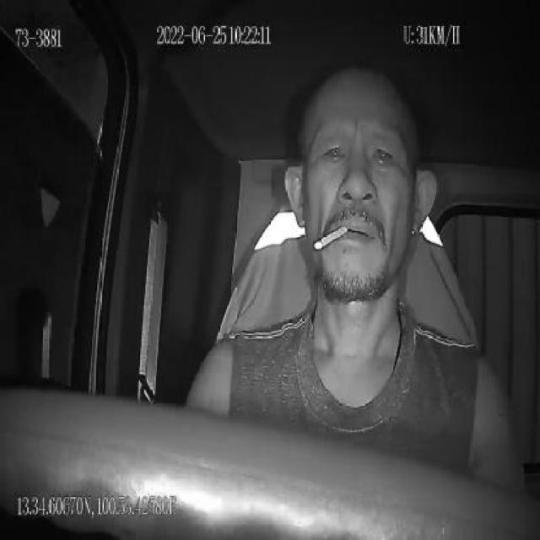smoking: (313, 227, 349, 251)
